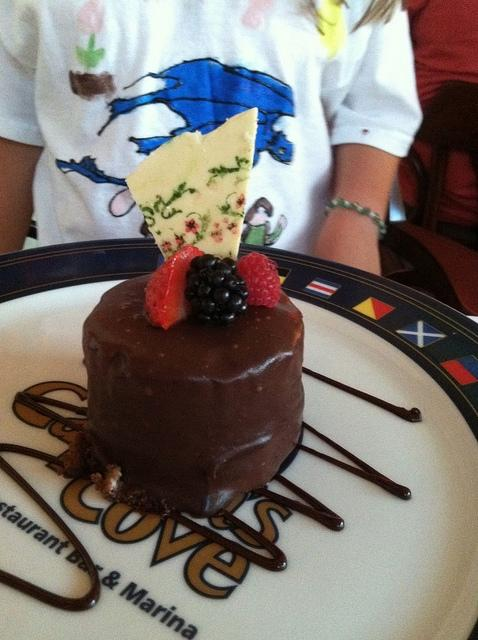blackberry: (184, 254, 250, 328)
strawberry: (145, 244, 204, 330)
